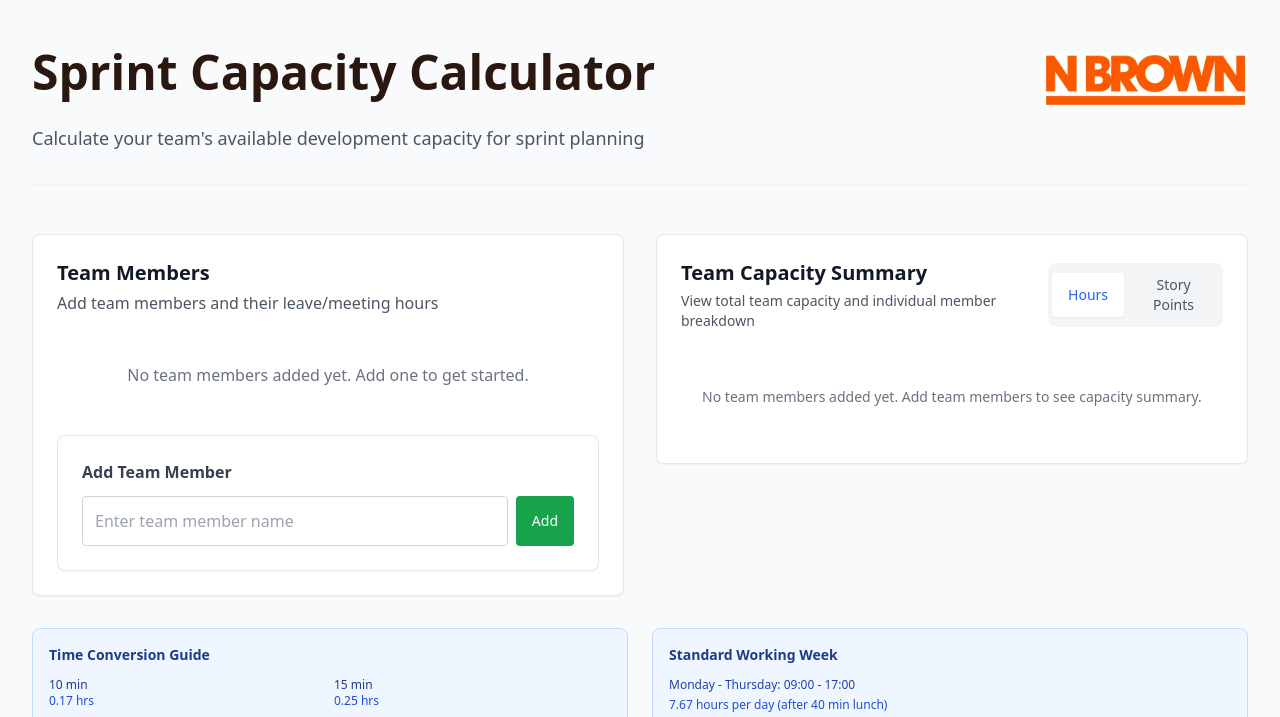
Test: Sprint Capacity Calculator - Integration Tests › Adding and removing team members updates summary › should remove a team member and update the summary
This screenshot has width=1280, height=717.
Add a team member
Type "Alice" into the field with placeholder "Enter team member name". click: coordinates (295, 521)
box: top-left (82, 496), bottom-right (508, 546)
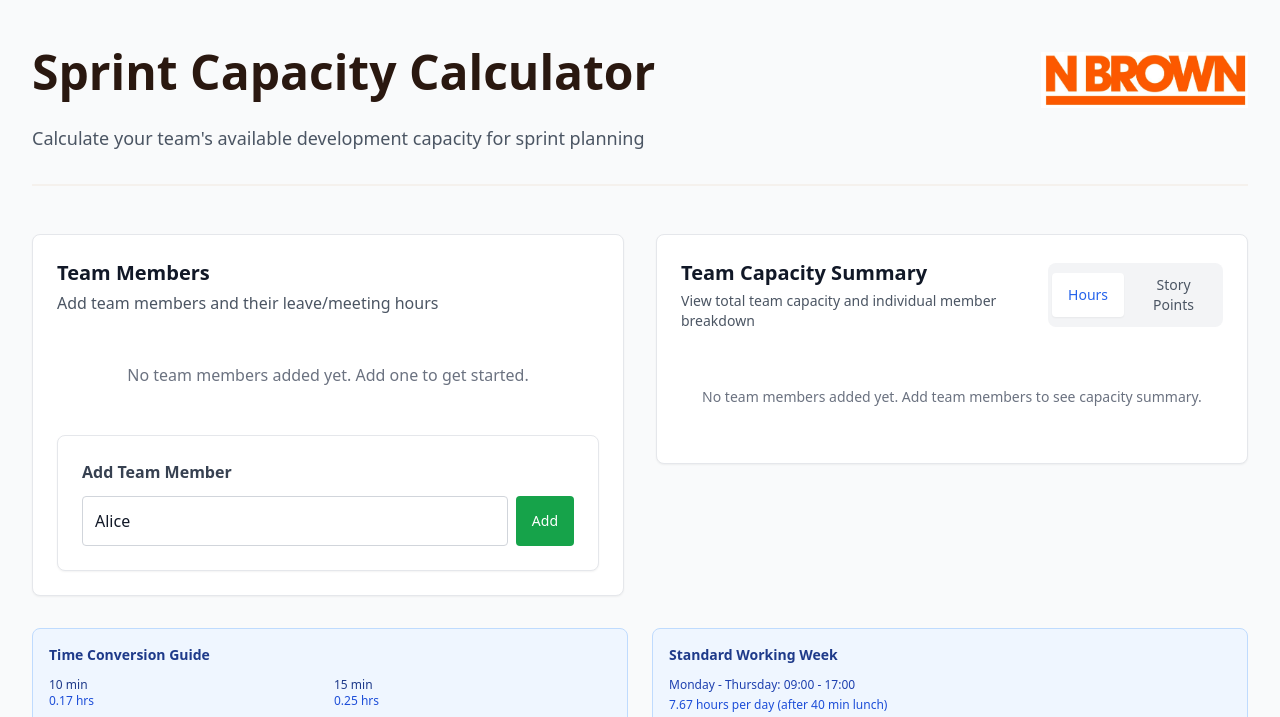
Click the button "Add". click: coordinates (545, 521)
box: top-left (516, 496), bottom-right (574, 546)
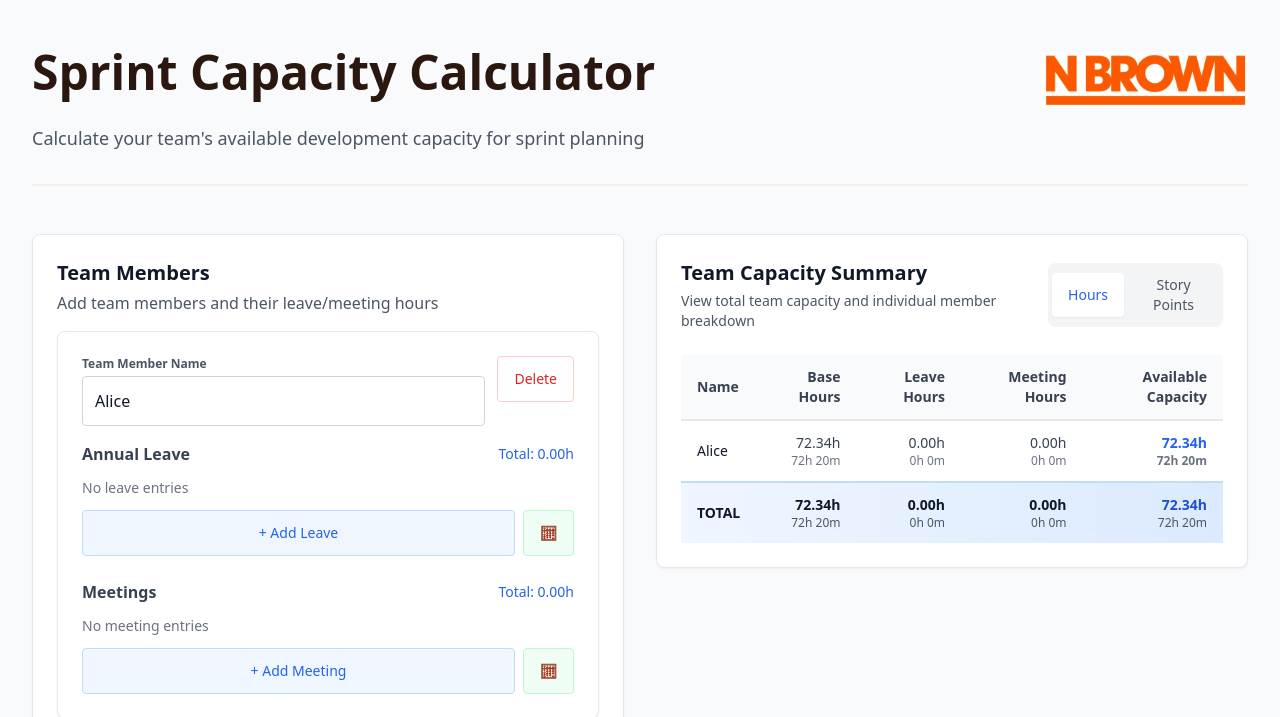
Now the field showing "Alice" is shown, box top-left (82, 376), bottom-right (485, 426)
Click the button "Delete". click: coordinates (536, 379)
box: top-left (497, 356), bottom-right (574, 402)
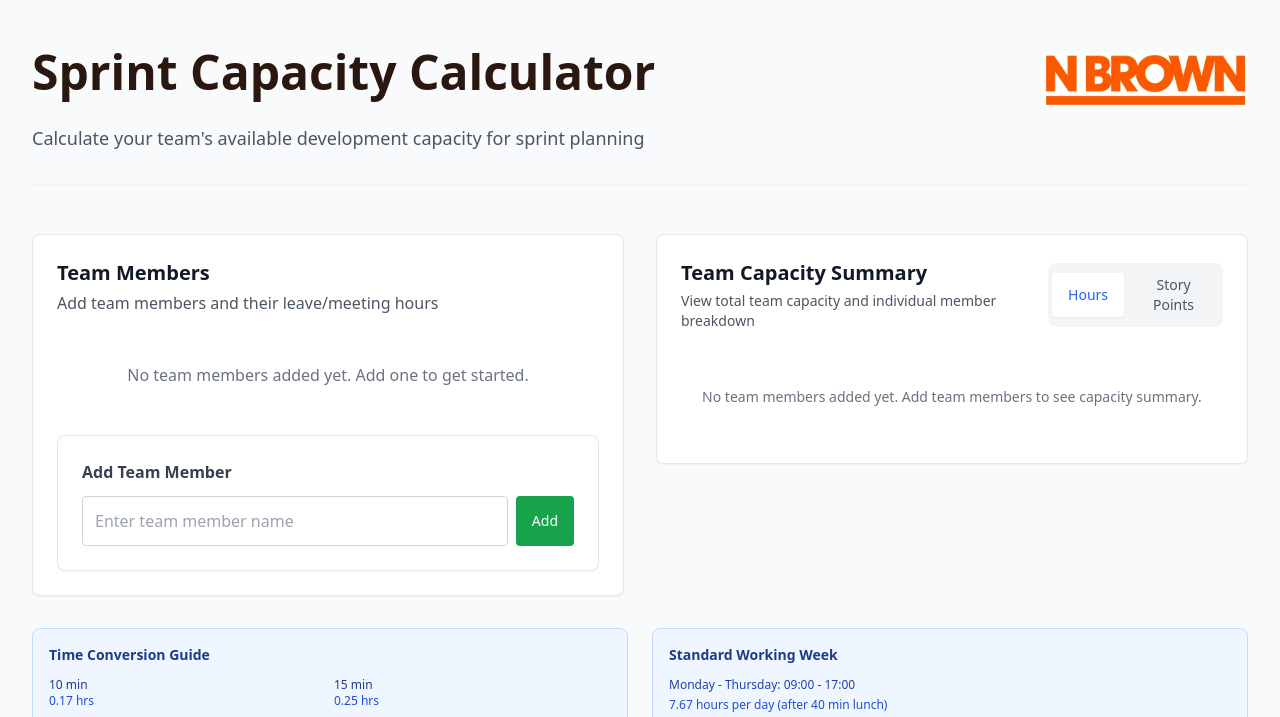
Now no cells showing "Alice" are shown
